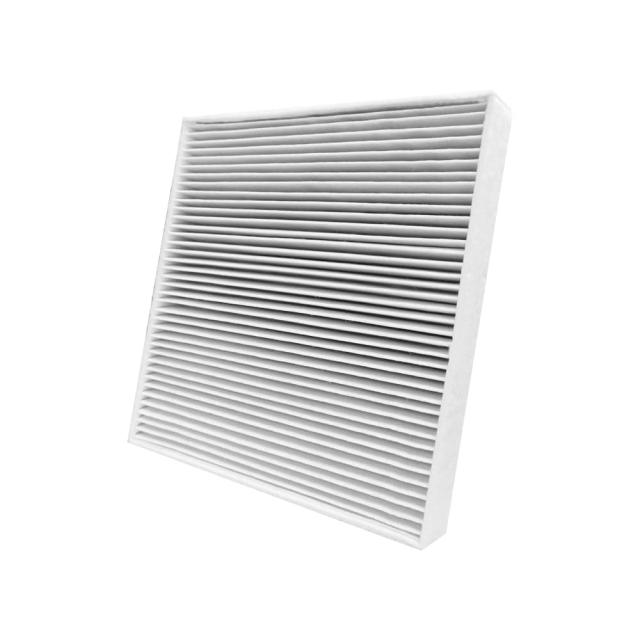air_filter: (130, 98, 481, 543)
